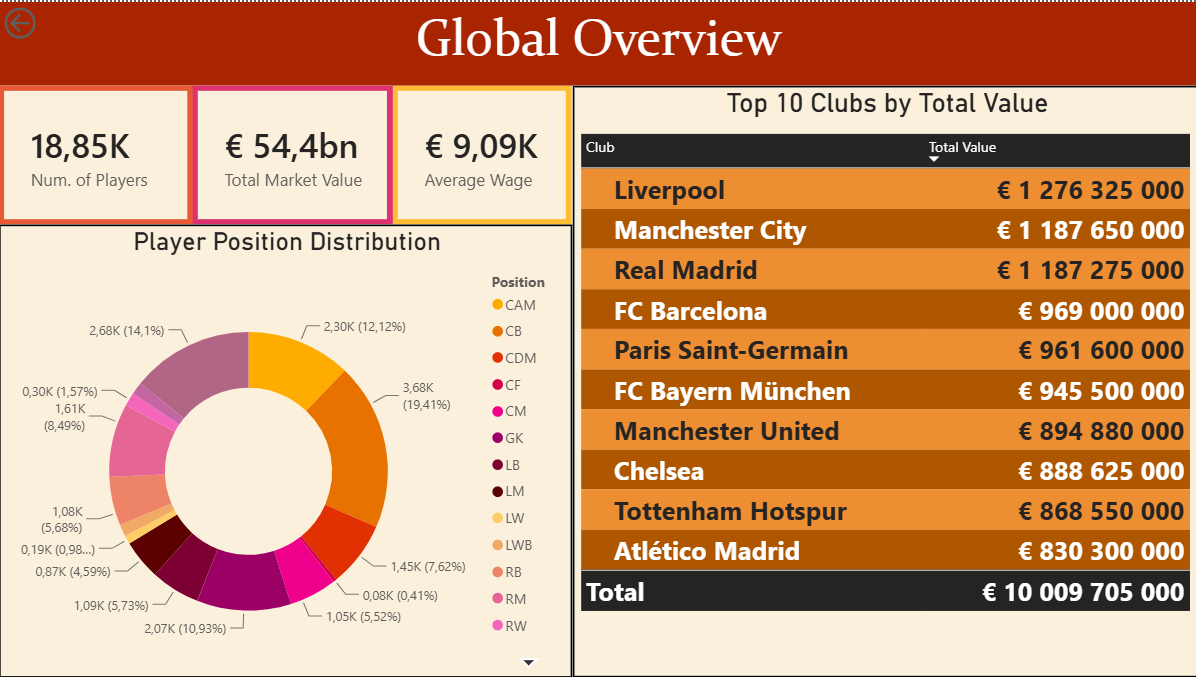

This screenshot's page, from the dashboard's own definition file:
{"tool":"powerbi","page":{"name":"Page 1","canvas":[1280,720],"ordinal":0},"visuals":[{"type":"textbox","box":[0,0,1136,79.1],"z":0},{"type":"cardVisual","fields":{"Data":["CountNonNull(fifa_clean_data.?OVA)"]},"box":[0,79.1,172.1,131.4],"z":1000},{"type":"cardVisual","fields":{"Data":["Sum(fifa_clean_data.Value(Euros))"]},"box":[172.1,79.1,189.5,131.4],"z":2000},{"type":"cardVisual","fields":{"Data":["Avg(fifa_clean_data.Wage(Euros))"]},"box":[361.6,79.1,181.4,131.4],"z":3000},{"type":"actionButton","box":[0,0,100,40],"z":4000},{"type":"donutChart","title":"Player Position Distribution","fields":{"Y":["CountNonNull(fifa_clean_data.Best Position)"],"Category":["fifa_clean_data.Best Position"]},"box":[0,210.5,543,395.3],"z":5000},{"type":"tableEx","title":"Top 10 Clubs by Total Value","fields":{"Values":["fifa_clean_data.Club","fifa_clean_data.Value(Euros)"]},"box":[543,79.1,593,526.7],"z":6000}]}

Visuals, with their boxes in screenshot pixels (x1, y1, x2, y2), scaled from the page's 1280x720 canvas onto the 1196x677 screenshot:
textbox: 0, 0, 1061, 74
cardVisual - CountNonNull(fifa_clean_data.?OVA): 0, 74, 161, 198
cardVisual - Sum(fifa_clean_data.Value(Euros)): 161, 74, 338, 198
cardVisual - Avg(fifa_clean_data.Wage(Euros)): 338, 74, 507, 198
actionButton: 0, 0, 93, 38
"Player Position Distribution" donutChart: 0, 198, 507, 570
"Top 10 Clubs by Total Value" tableEx: 507, 74, 1061, 570
